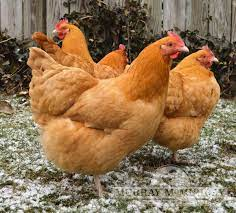buff: (50, 17, 83, 48), (155, 30, 189, 60), (191, 44, 219, 70), (107, 43, 130, 70)
